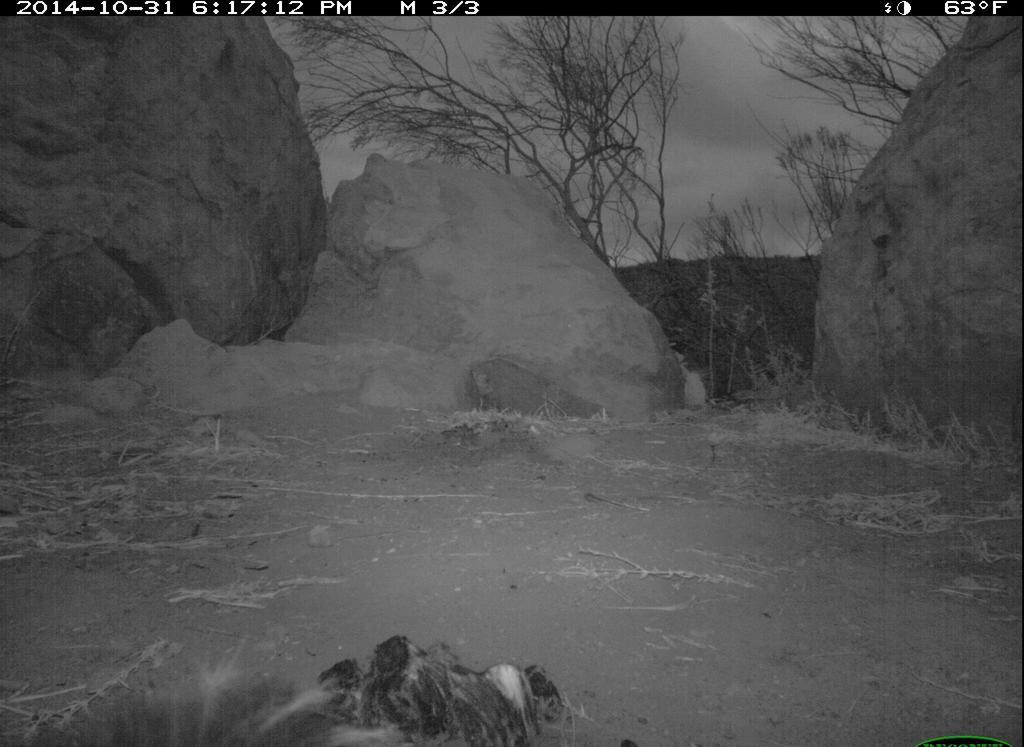skunk: (25, 653, 420, 747)
